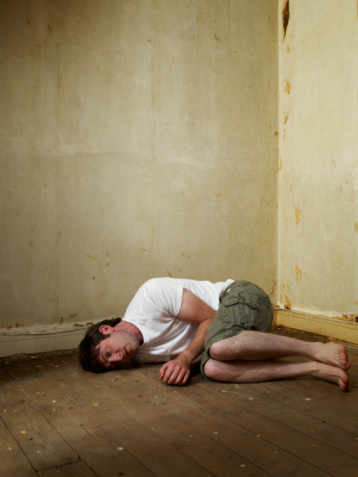deitado: (80, 264, 358, 381)
